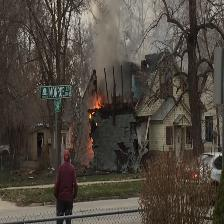fire: (93, 95, 102, 109), (85, 109, 93, 119)
